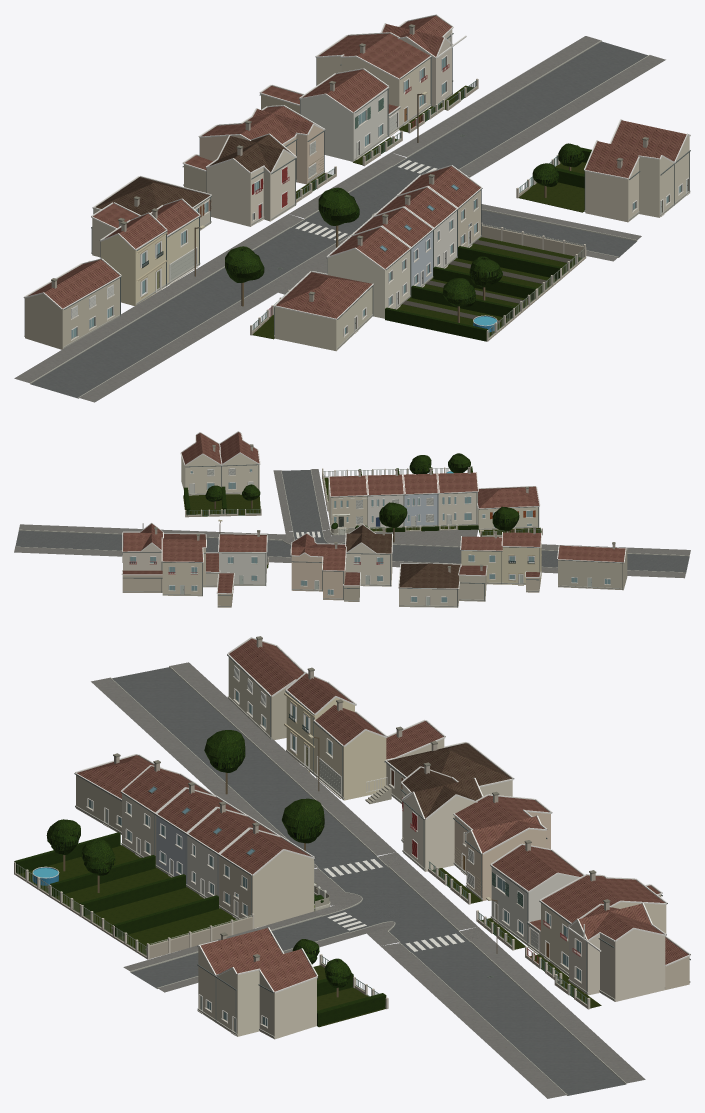
Rendered from camp-attila.glb.
3 renders of one model, top to bottom at view 1: azimuth 30°, elevation 25°; view 2: azimuth 150°, elevation 25°; view 3: azimuth 270°, elevation 25°, orthographic. The views are drawn at different scales.
Parts seen in each view (by area): view 1: Rue, clôtures et jardins, 83 · maison à volets rouges, 75 · maison à volets blancs, 92 · contexte de limite, 70 / 70B · pavillon sur sous-sol, 87 · façade blanche et volets verts, 89 · corps principal, 72 · maison mitoyenne, 85 · soubassement en pierre, 77 · façade à encadrements moulurés, 89 · aile à pignon, 78 · maison mitoyenne (+8 smaller); view 2: Rue, clôtures et jardins, 85 · soubassement en pierre, 75 · maison à volets blancs, 89 · corps principal, Pavillon sur sous-sol · entrée à escalier, 83 · maison à volets rouges, 87 · façade blanche et volets verts, 78 · maison mitoyenne, 72 · maison mitoyenne, 70 / 70B · pavillon sur sous-sol, 94 · contexte de limite, 92 · contexte de limite (+11 smaller); view 3: Rue, clôtures et jardins, 89 · aile à pignon, 78 · maison mitoyenne, 94 · contexte de limite, 85 · soubassement en pierre, 83 · maison à volets rouges, 77 · garage à étage, 87 · façade blanche et volets verts, 89 · corps principal, 75 · maison à volets blancs, Pavillon sur sous-sol · entrée à escalier, 72 · maison mitoyenne (+7 smaller).
Part boxes in pixels (left/top/right/bottom): Rue, clôtures et jardins: left=14, top=36, right=665, bottom=402; 83 · maison à volets rouges: left=205, top=133, right=296, bottom=226; 75 · maison à volets blancs: left=23, top=258, right=121, bottom=349; 92 · contexte de limite: left=584, top=140, right=675, bottom=222; 70 / 70B · pavillon sur sous-sol: left=273, top=271, right=374, bottom=351; 87 · façade blanche et volets verts: left=299, top=68, right=389, bottom=161; 89 · corps principal: left=315, top=32, right=431, bottom=128; 72 · maison mitoyenne: left=326, top=225, right=411, bottom=318; 85 · soubassement en pierre: left=198, top=105, right=325, bottom=184; 77 · façade à encadrements moulurés: left=99, top=212, right=167, bottom=305; 89 · aile à pignon: left=380, top=14, right=466, bottom=106; 78 · maison mitoyenne: left=397, top=165, right=482, bottom=247; Rue, clôtures et jardins: left=14, top=453, right=690, bottom=578; 85 · soubassement en pierre: left=290, top=533, right=346, bottom=600; 75 · maison à volets blancs: left=557, top=542, right=627, bottom=590; 89 · corps principal: left=161, top=533, right=206, bottom=596; Pavillon sur sous-sol · entrée à escalier: left=398, top=563, right=461, bottom=607; 83 · maison à volets rouges: left=345, top=524, right=393, bottom=586; 87 · façade blanche et volets verts: left=218, top=530, right=267, bottom=585; 78 · maison mitoyenne: left=327, top=470, right=368, bottom=535; 72 · maison mitoyenne: left=436, top=467, right=478, bottom=526; 70 / 70B · pavillon sur sous-sol: left=477, top=486, right=540, bottom=530; 94 · contexte de limite: left=180, top=432, right=222, bottom=495; 92 · contexte de limite: left=219, top=431, right=260, bottom=494; Rue, clôtures et jardins: left=14, top=662, right=645, bottom=1098; 89 · aile à pignon: left=567, top=899, right=666, bottom=1001; 78 · maison mitoyenne: left=218, top=822, right=330, bottom=928; 94 · contexte de limite: left=216, top=948, right=318, bottom=1039; 85 · soubassement en pierre: left=453, top=791, right=552, bottom=900; 83 · maison à volets rouges: left=400, top=762, right=483, bottom=871; 77 · garage à étage: left=313, top=699, right=387, bottom=800; 87 · façade blanche et volets verts: left=490, top=840, right=584, bottom=946; 89 · corps principal: left=539, top=870, right=667, bottom=975; 75 · maison à volets blancs: left=227, top=636, right=305, bottom=740; Pavillon sur sous-sol · entrée à escalier: left=365, top=741, right=514, bottom=803; 72 · maison mitoyenne: left=120, top=760, right=215, bottom=867.
Bounding box in the file's own units: 115 × 10.29 × 75.04.
Materials: 9 (5 with a texture image).
